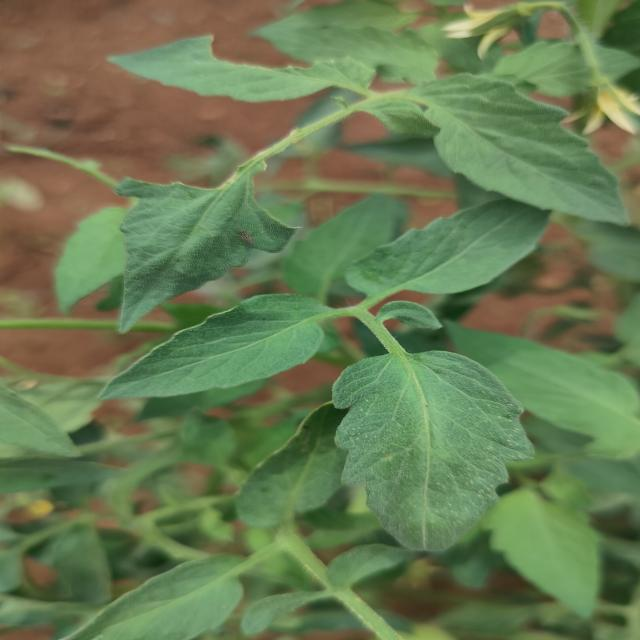tomato_healthy: (335, 349, 533, 555), (400, 74, 638, 225), (91, 292, 329, 398)
